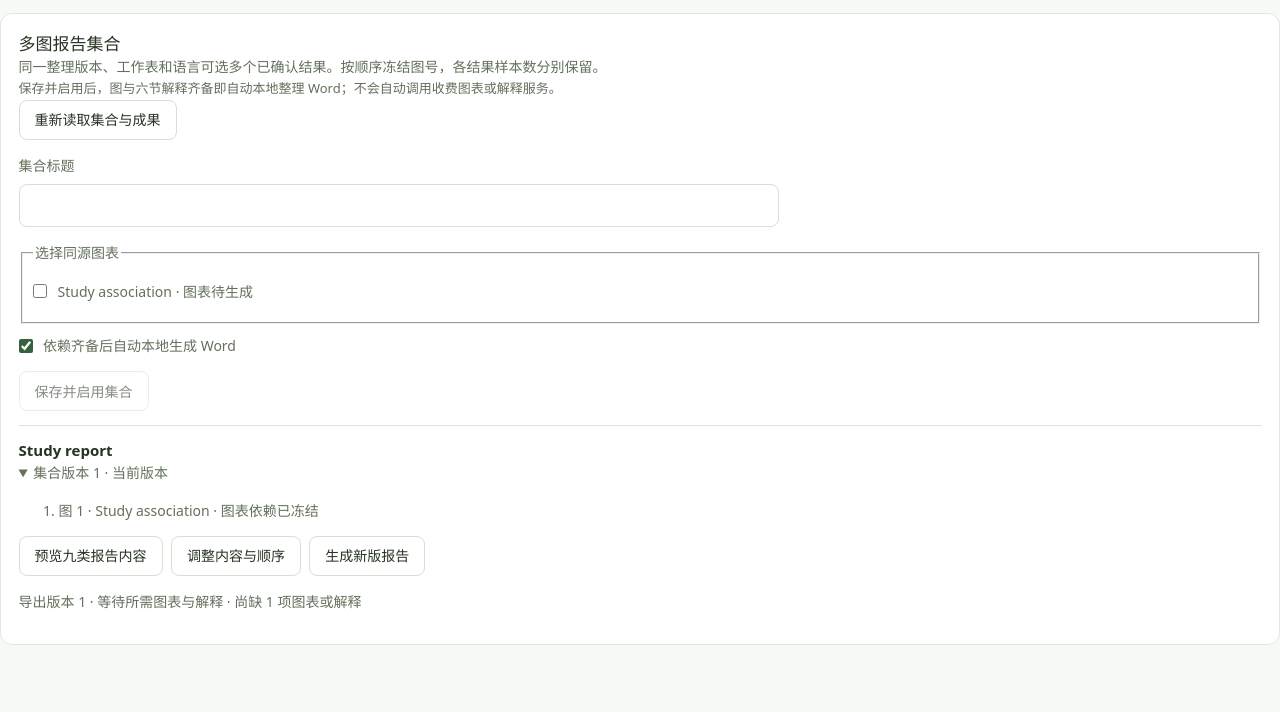
nine-section preview uses readable facts and scoped enum labels while preserving author text
Click the button "预览九类报告内容" at [90, 556], box [18,536,162,576]
(page scrolled)
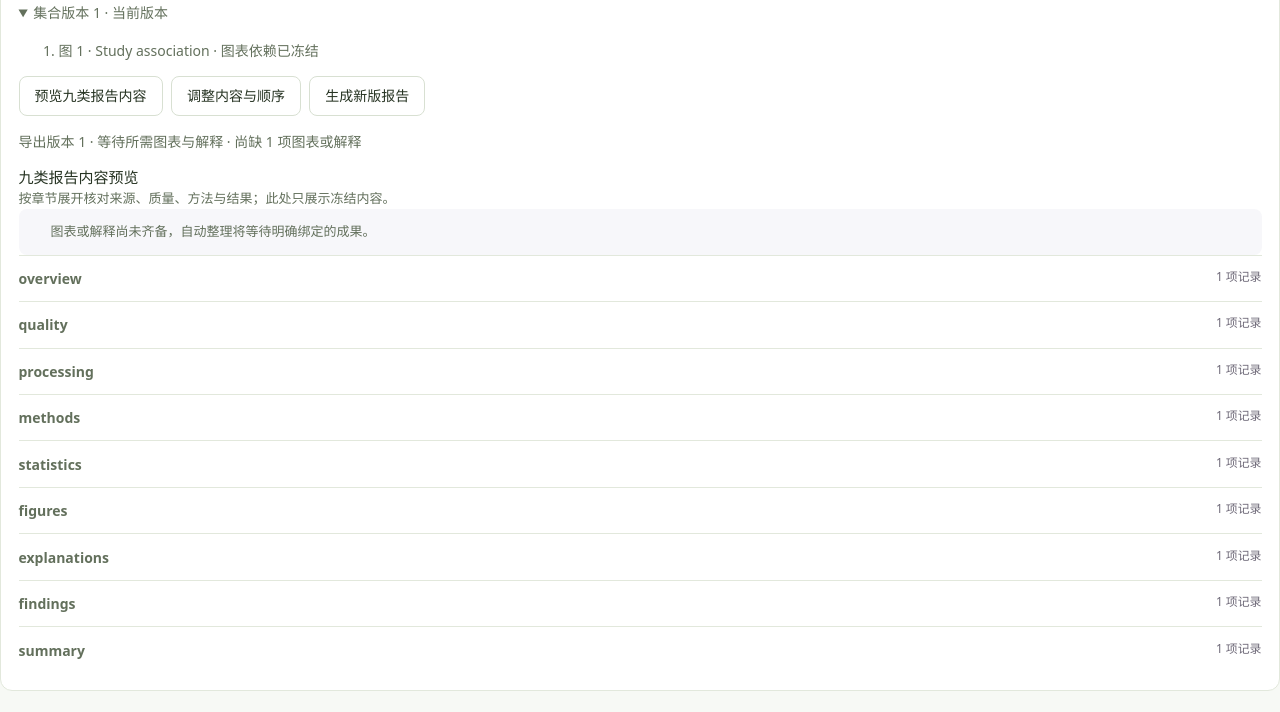
Expected: the heading "九类报告内容预览" is shown, [18,167,138,187]
